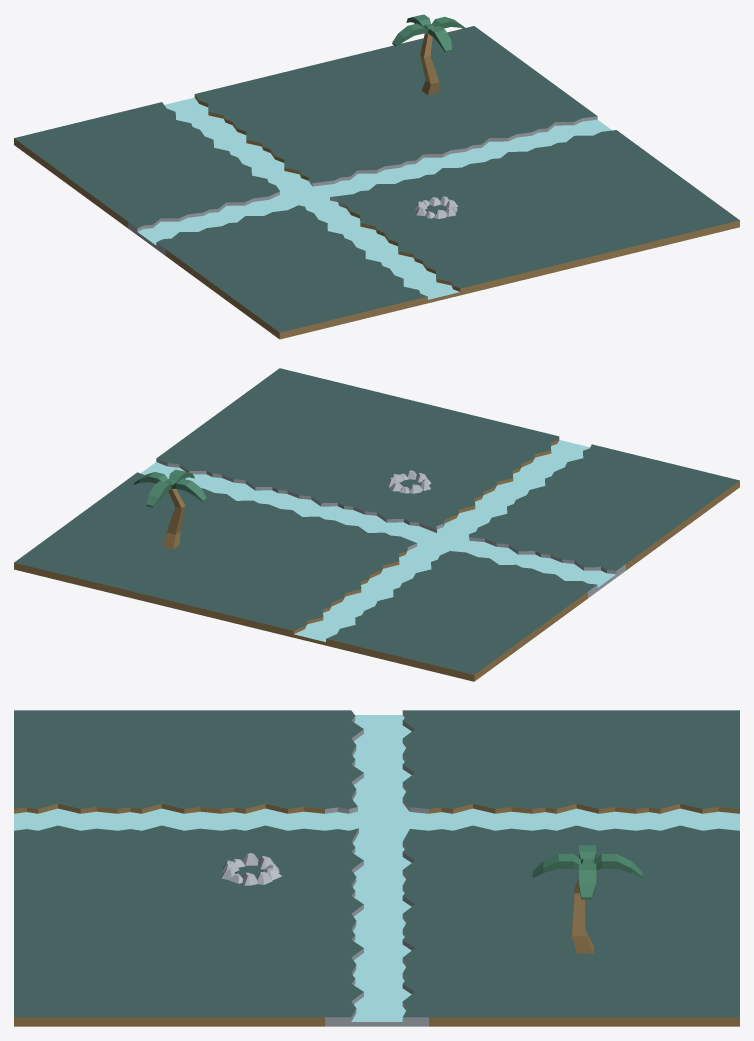
Rendered from Conjunto1.dae.
3 views of the same model, one above another, from view 1: azimuth 30°, elevation 25°; view 2: azimuth 150°, elevation 25°; view 3: azimuth 270°, elevation 25° (orthographic). The views are drawn at different scales.
Visible parts, largest first — view 1: naturePack_001 (×36), naturePack_002 (×6), naturePack_093 (×6), naturePack_058, naturePack_061, naturePack_077; view 2: naturePack_001 (×36), naturePack_002 (×6), naturePack_093 (×6), naturePack_058, naturePack_061, naturePack_077; view 3: naturePack_001 (×36), naturePack_093 (×6), naturePack_002 (×6), naturePack_058, naturePack_061, naturePack_077.
Boxes of the visible parts, x1,y1,x2,y2 form: naturePack_001 (×36): (14, 26, 739, 339); naturePack_002 (×6): (146, 90, 476, 307); naturePack_093 (×6): (128, 109, 625, 255); naturePack_058: (259, 173, 362, 216); naturePack_061: (392, 14, 466, 95); naturePack_077: (415, 196, 458, 218); naturePack_001 (×36): (14, 368, 739, 681); naturePack_002 (×6): (277, 432, 607, 649); naturePack_093 (×6): (128, 451, 625, 598); naturePack_058: (391, 516, 493, 559); naturePack_061: (134, 469, 206, 549); naturePack_077: (386, 470, 431, 493); naturePack_001 (×36): (14, 710, 739, 1026); naturePack_093 (×6): (325, 710, 428, 1026); naturePack_002 (×6): (14, 798, 739, 841); naturePack_058: (325, 798, 428, 846); naturePack_061: (532, 845, 642, 953); naturePack_077: (221, 853, 281, 885).
Bounding box in the file's own units: 7 × 1.08 × 7.
